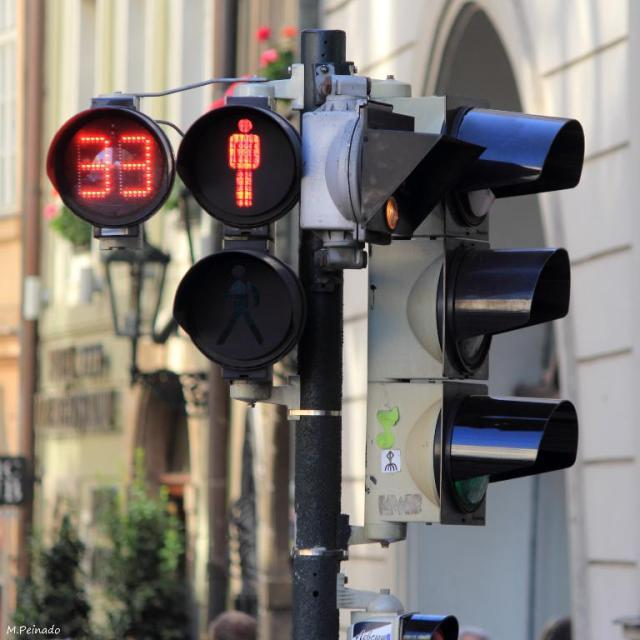off traffic light: (441, 97, 588, 529)
traffic light: (181, 92, 304, 396), (45, 98, 176, 235)
